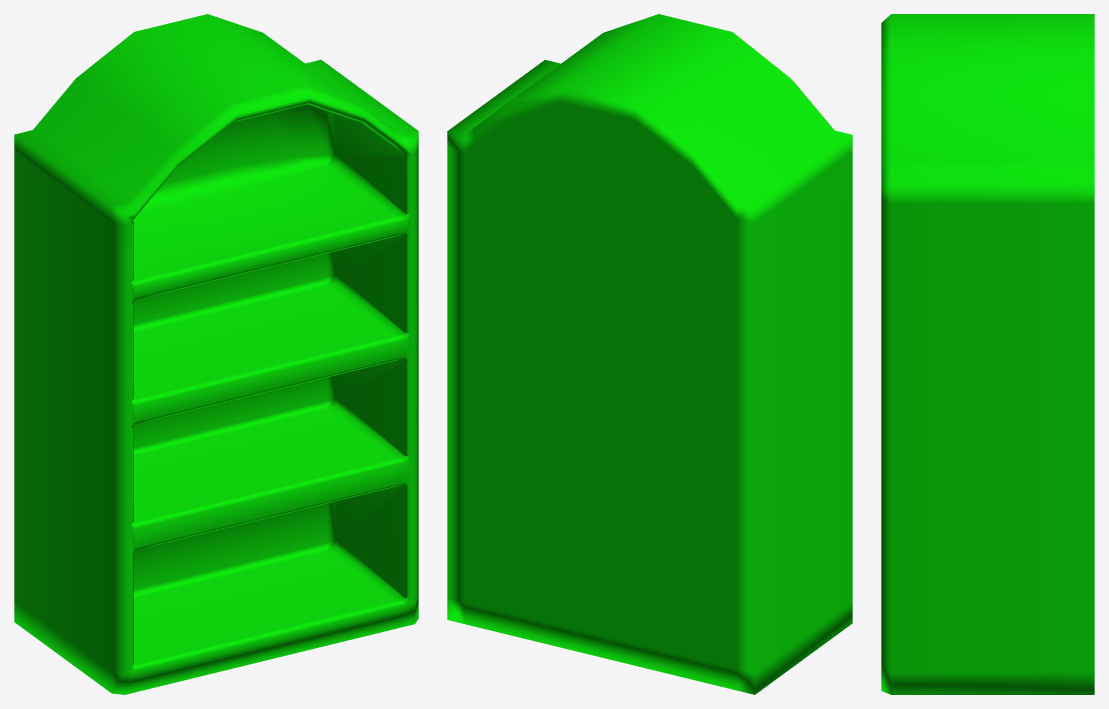
File: Etagere.fbx
3 renders of one model, left to right at view 1: azimuth 30°, elevation 25°; view 2: azimuth 150°, elevation 25°; view 3: azimuth 270°, elevation 25°, orthographic. The views are drawn at different scales.
Parts seen in each view (by area): view 1: Etagere1; view 2: Etagere1; view 3: Etagere1.
Boxes of the visible parts, box(x1,y1,x2,y2) form: Etagere1: box(14, 14, 418, 694); Etagere1: box(447, 14, 852, 694); Etagere1: box(881, 14, 1094, 694).
Size of the model in its own units: 0.9826 by 1.72 by 0.5667.
